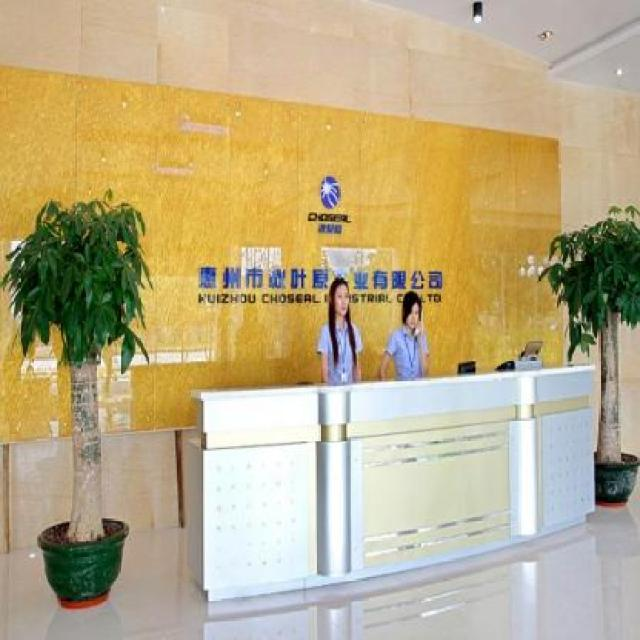frontdesk: (172, 366, 603, 597)
